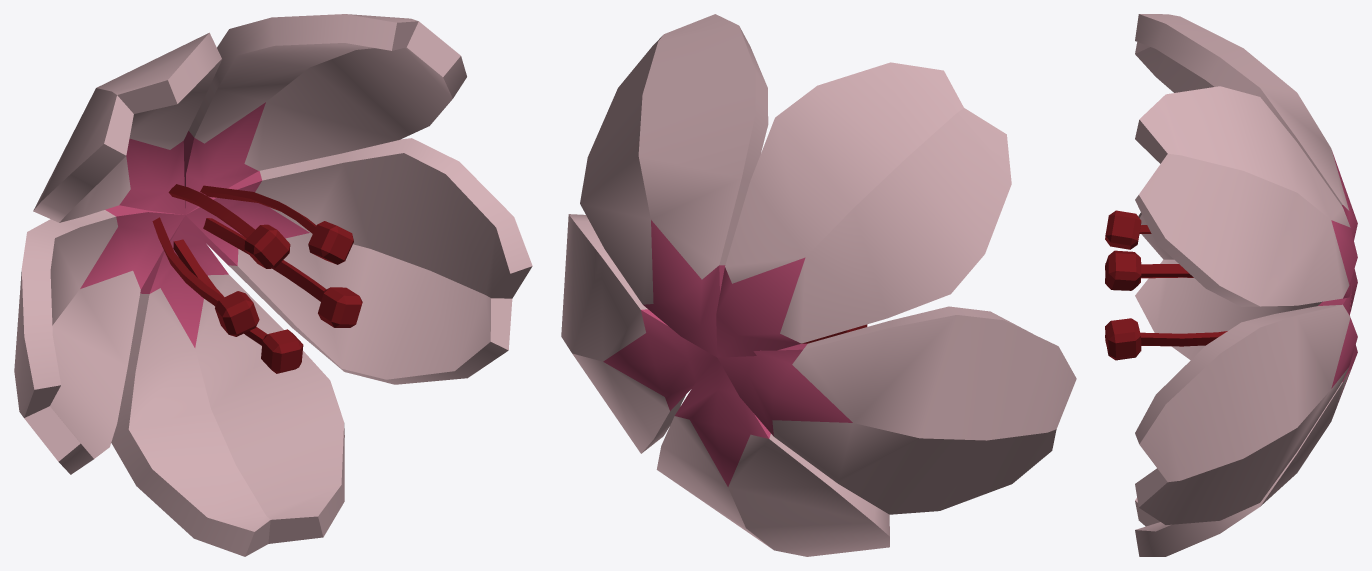
Rendered from sakura-flower.glb.
3 renders of one model, left to right at view 1: azimuth 30°, elevation 25°; view 2: azimuth 150°, elevation 25°; view 3: azimuth 270°, elevation 25°, orthographic. The views are drawn at different scales.
Visible parts, largest first — view 1: Decoration_SakuraFlower; view 2: Decoration_SakuraFlower; view 3: Decoration_SakuraFlower.
Part boxes in pixels (x1,y1,x2,y2): Decoration_SakuraFlower: (14, 14, 532, 556); Decoration_SakuraFlower: (561, 14, 1076, 556); Decoration_SakuraFlower: (1105, 14, 1357, 556).
Bounding box in the file's own units: 0.9715 × 0.954 × 0.4494.
